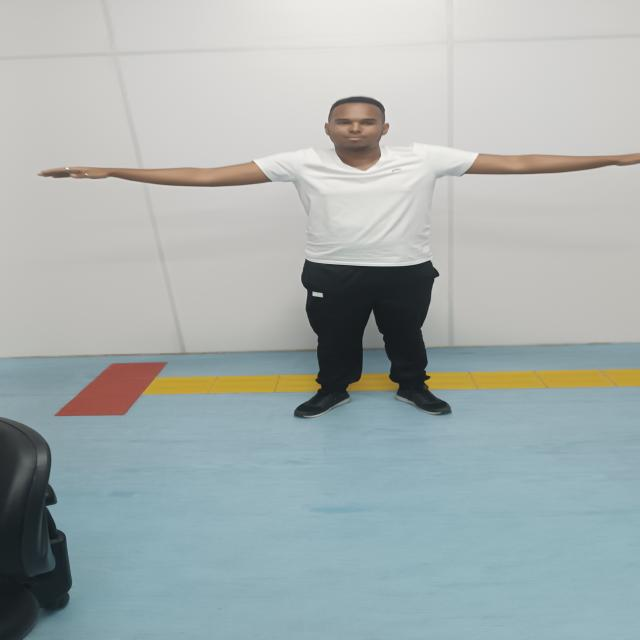takeoff: (40, 96, 640, 418)
